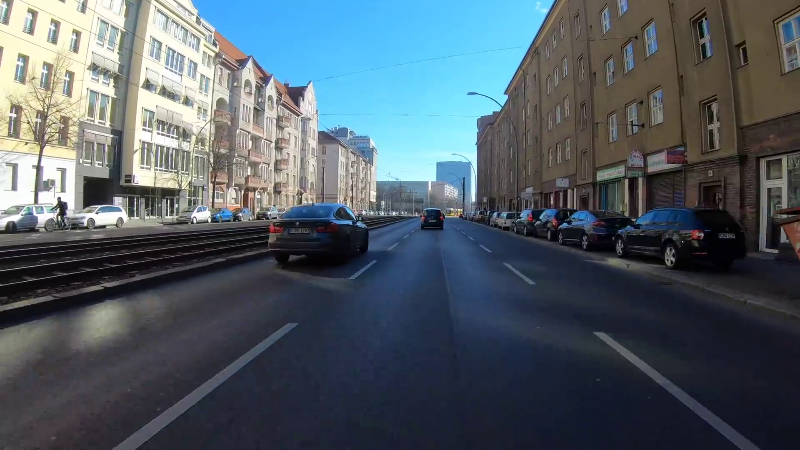Plate: (287, 225, 313, 235), (714, 231, 738, 240)
